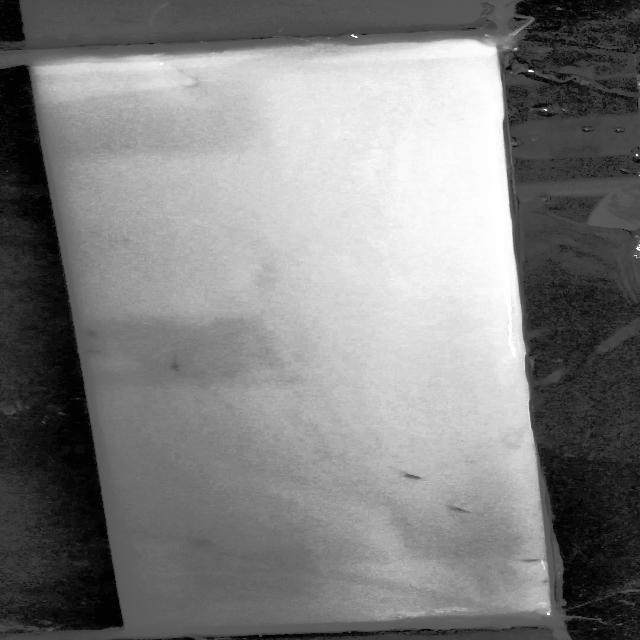shrimp: (188, 532, 224, 554), (442, 502, 484, 520), (163, 356, 192, 374), (392, 468, 429, 482), (511, 556, 545, 566), (83, 347, 103, 359), (86, 328, 101, 339)
